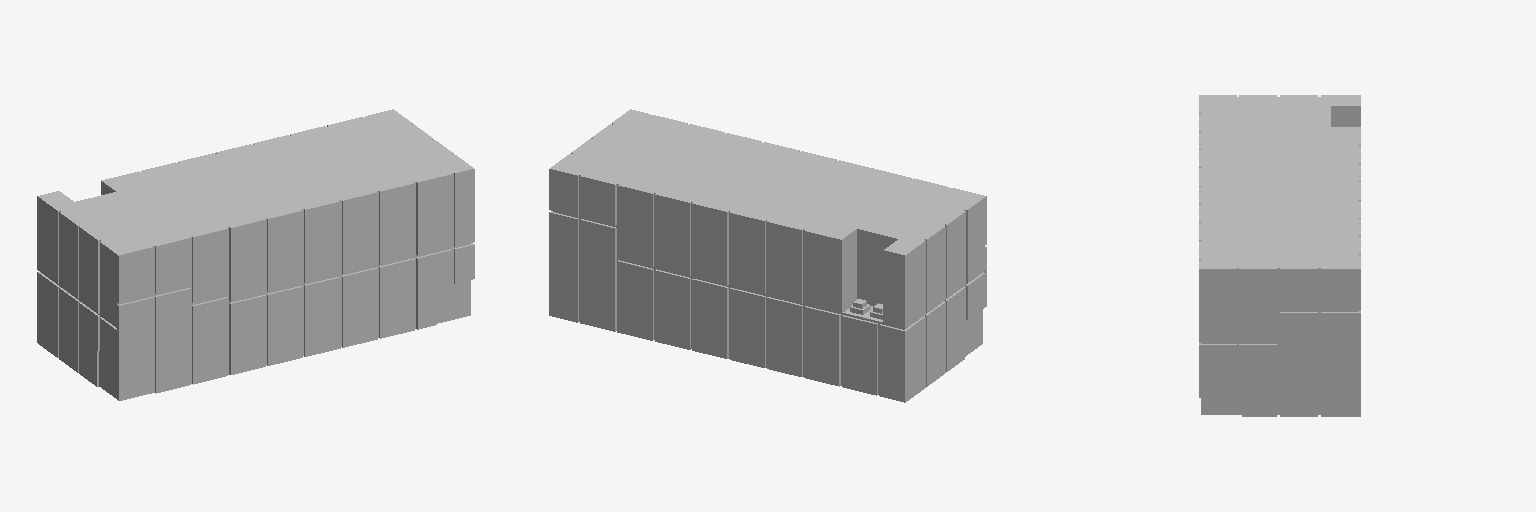
The model's file is euvplm_mirrored.obj.
The picture shows the model from 3 angles: view 1: azimuth 30°, elevation 25°; view 2: azimuth 150°, elevation 25°; view 3: azimuth 270°, elevation 25°; orthographic projection.
Visible parts, largest first — view 1: cube; view 2: cube; view 3: cube.
Boxes of the visible parts, x1=… form: cube: x1=37, y1=109, x2=474, y2=400; cube: x1=549, y1=109, x2=986, y2=402; cube: x1=1199, y1=95, x2=1360, y2=416.
Size of the model in its own units: 10.12 by 4 by 4.